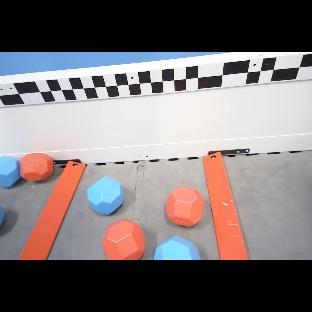V5_BLUE: (87, 177, 123, 215), (153, 236, 200, 260), (0, 157, 22, 187), (0, 205, 5, 225)
V5_RED: (102, 219, 145, 260), (166, 187, 204, 227), (20, 153, 54, 181)
